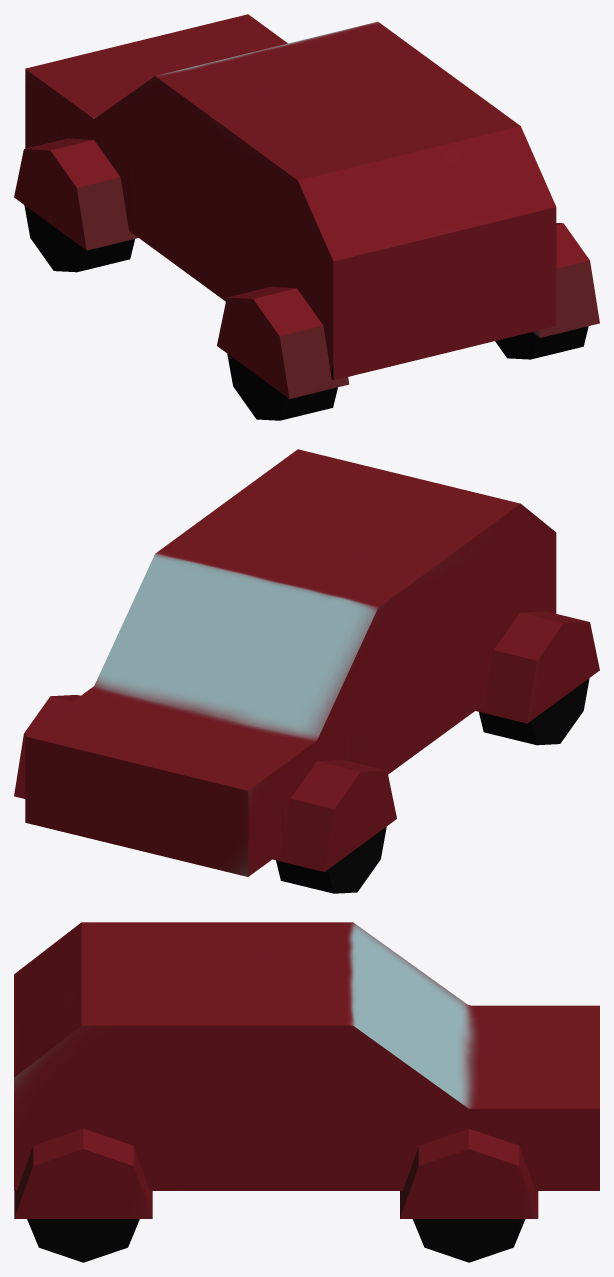
The model's file is Car.fbx.
3 renders of one model, top to bottom at view 1: azimuth 30°, elevation 25°; view 2: azimuth 150°, elevation 25°; view 3: azimuth 270°, elevation 25°, orthographic. The views are drawn at different scales.
Visible parts, largest first — view 1: Cube; view 2: Cube; view 3: Cube.
Part boxes in pixels (<box>): Cube: <box>14,14,599,420</box>; Cube: <box>14,449,599,893</box>; Cube: <box>14,922,599,1262</box>.
Bounding box in the file's own units: 336 × 237 × 577.
